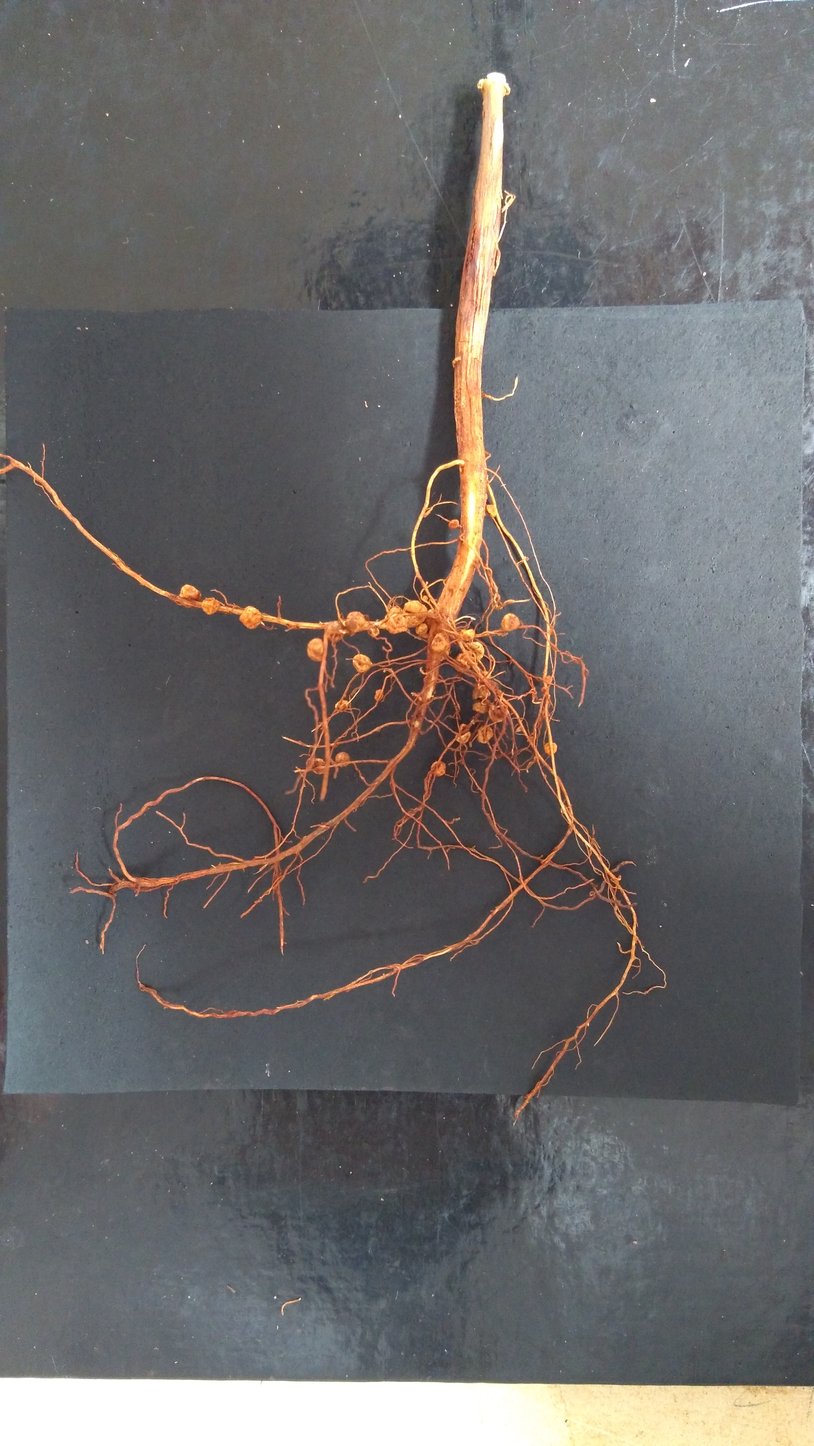nodule: (402, 600, 427, 627), (385, 607, 407, 634), (431, 631, 450, 662), (239, 606, 260, 629), (345, 612, 366, 633), (464, 642, 484, 664), (419, 609, 434, 638), (325, 621, 345, 642), (307, 638, 324, 662), (179, 584, 201, 602), (352, 654, 372, 673), (455, 651, 475, 670), (488, 703, 507, 723), (501, 613, 519, 631), (202, 597, 220, 615), (306, 758, 325, 774), (455, 723, 470, 743), (477, 725, 493, 743), (473, 684, 491, 699), (478, 671, 490, 690), (335, 752, 350, 767), (431, 761, 445, 777), (472, 701, 489, 714), (544, 742, 557, 755), (460, 629, 474, 641), (335, 700, 349, 712), (415, 623, 428, 635), (486, 504, 497, 518), (367, 627, 379, 637), (541, 686, 550, 699), (374, 689, 383, 701), (448, 519, 458, 529), (410, 692, 421, 701), (474, 556, 481, 568), (544, 676, 552, 684), (414, 721, 420, 729), (496, 689, 502, 696), (423, 595, 428, 601)
